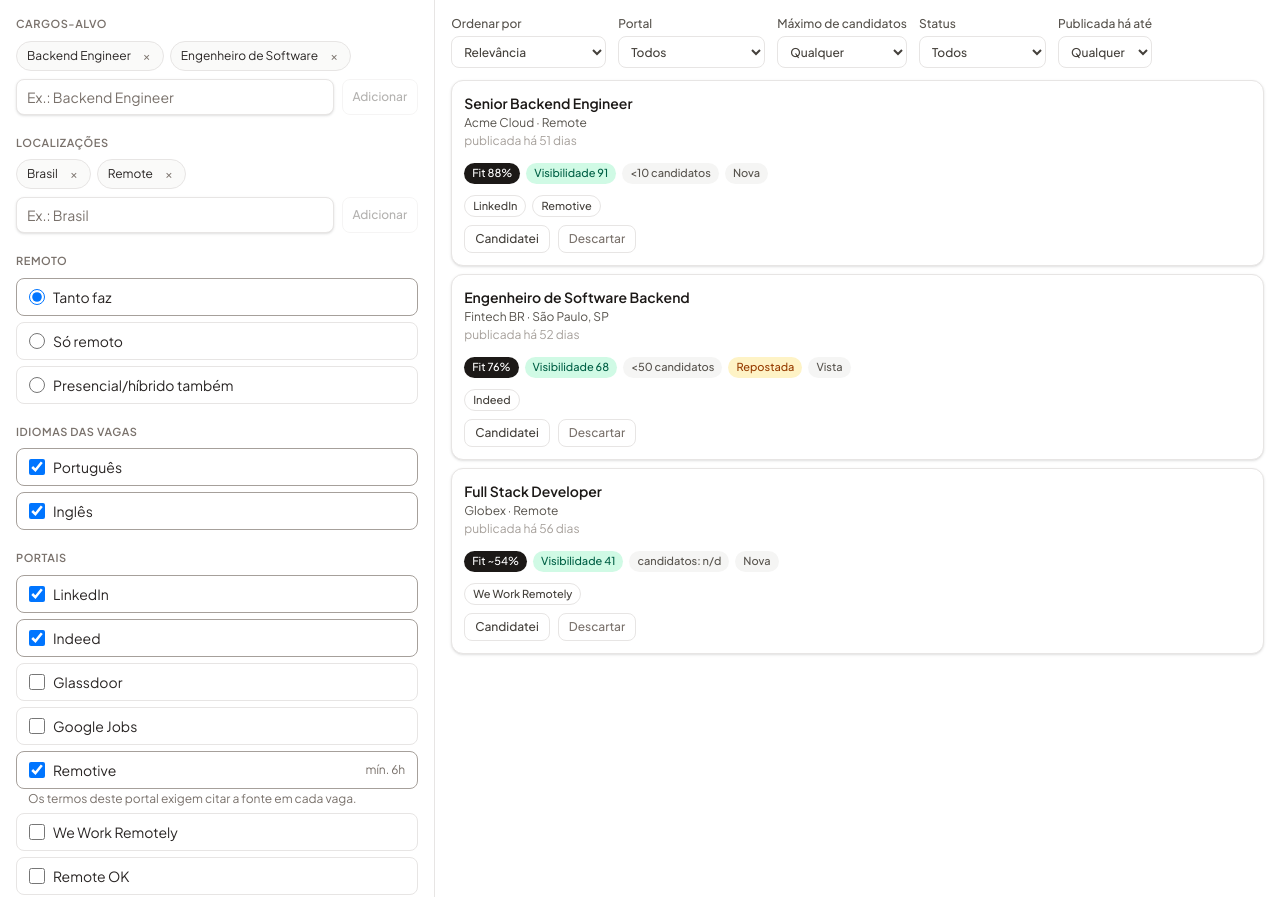
Scenario: JobsShell › filters the list by board
The width and height of the screenshot is (1280, 897).
Expected: the list named "Vagas encontradas" is shown, [451, 80, 1264, 654]
Select "We Work Remotely" in the dropdown labelled "Portal" at (692, 52), box [618, 36, 765, 68]
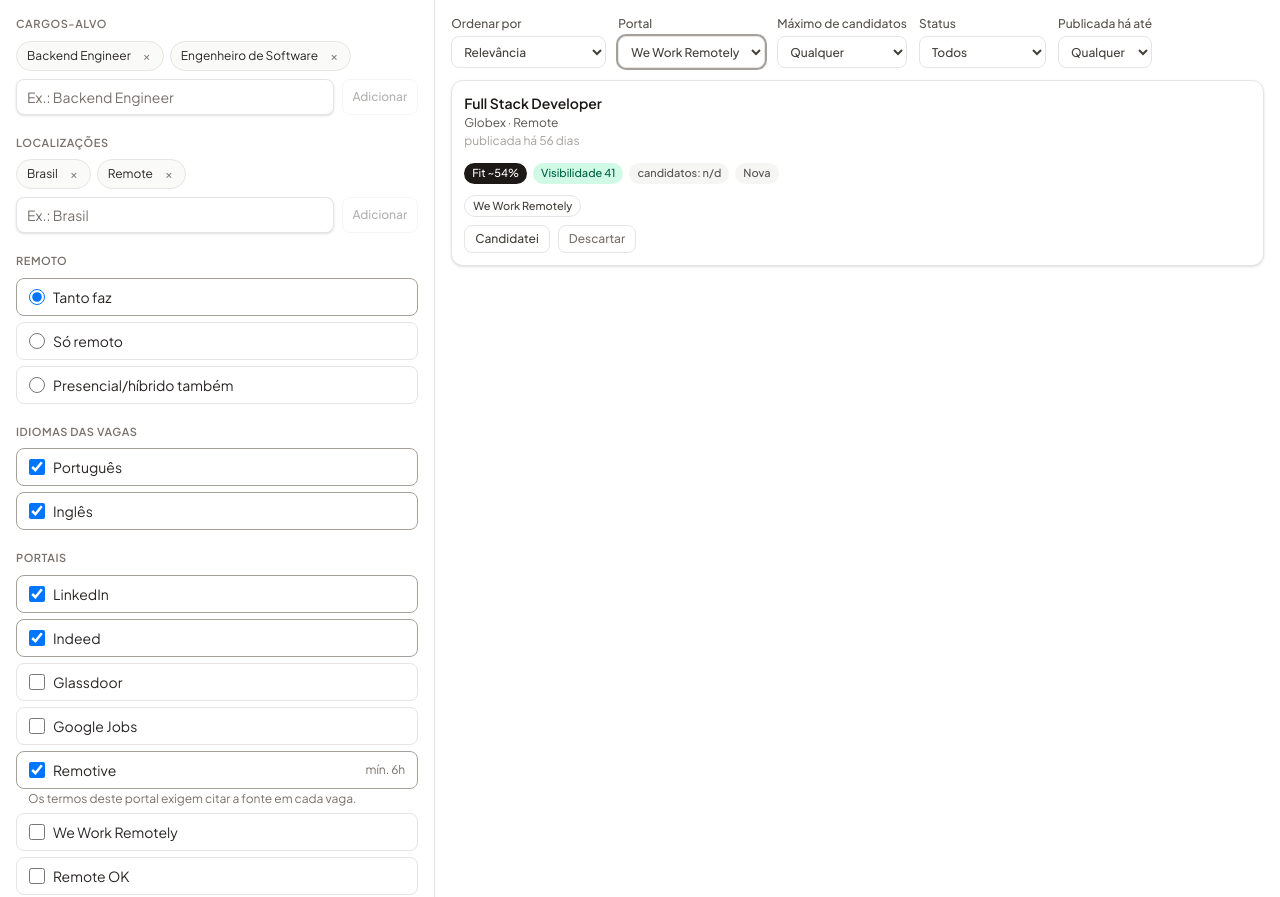
Expected: the heading "Full Stack Developer" is shown, [464, 94, 602, 112]
Result: the button "Senior Backend Engineer" is gone
